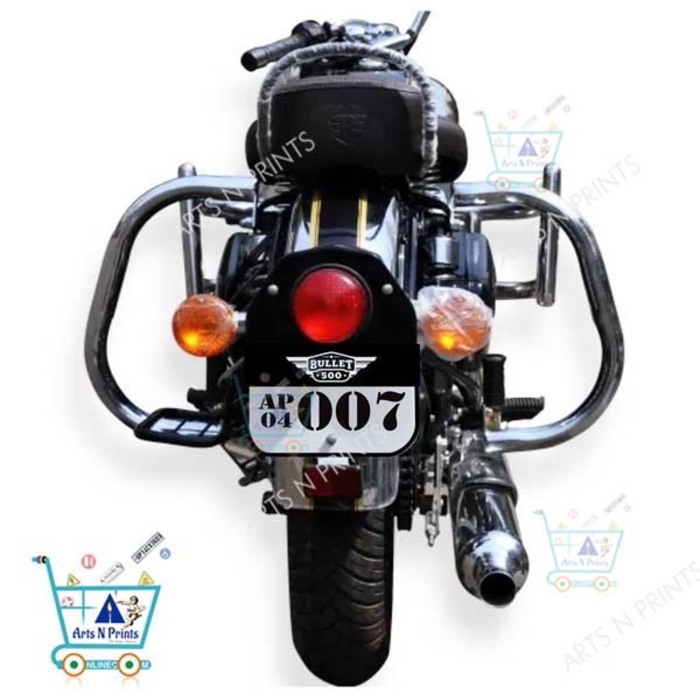n: (249, 387, 412, 450)
